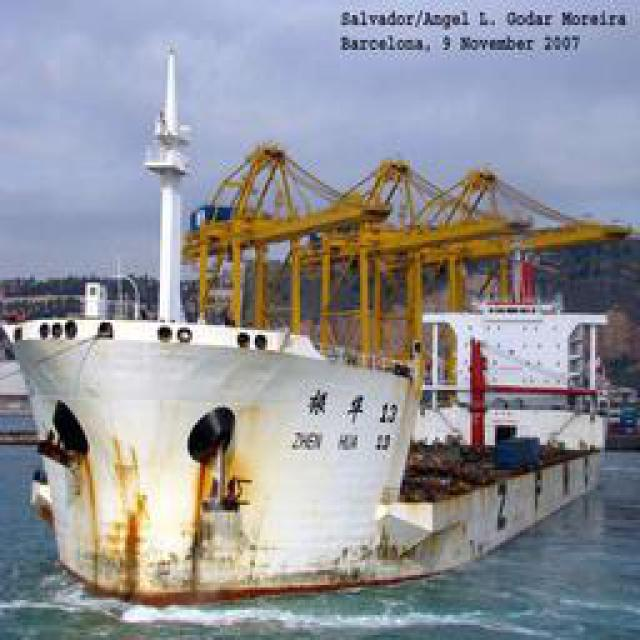Ship: (14, 161, 604, 606)
